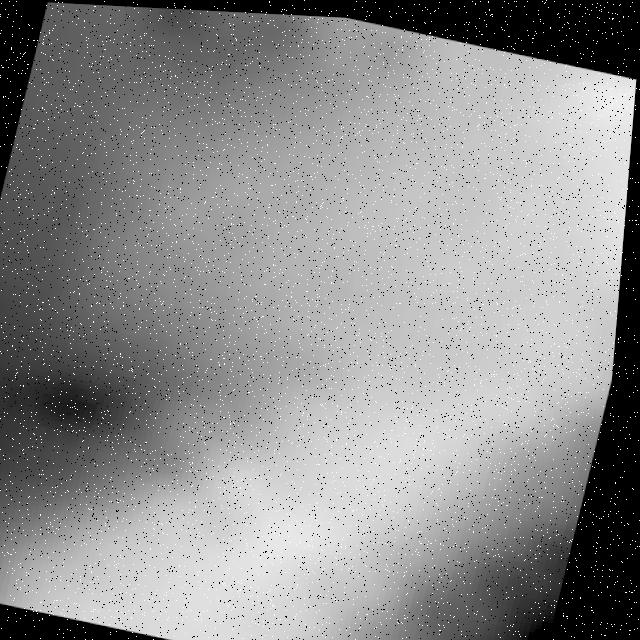person: (1, 1, 640, 640)
